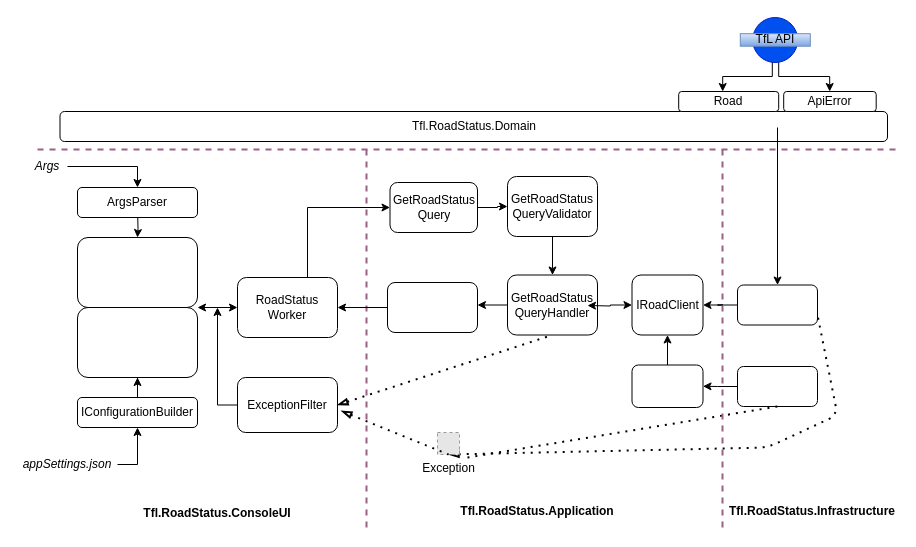
Some shapes in this 916 by 547 pixel diagram are drawn without their labels. Grey dashed boxes stand in for pictures. Each missing label, with the box of its shape:
GetRoadStatus Response: (386, 282, 478, 332)
IUrlBuilder: (631, 364, 703, 408)
Program.cs: (76, 236, 198, 308)
Startup.cs (DI ServiceCollection): (76, 306, 198, 378)
TfLRoadClient: (736, 284, 818, 325)
TfLUrlBuilder: (736, 366, 818, 406)
